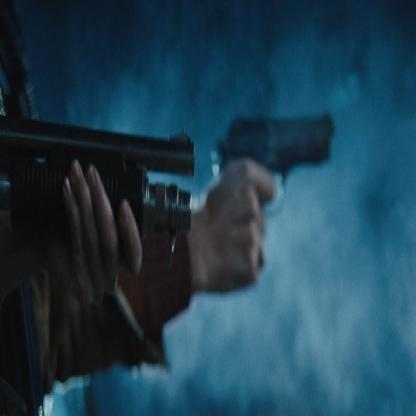Guns: (0, 109, 200, 279), (213, 106, 335, 227)
